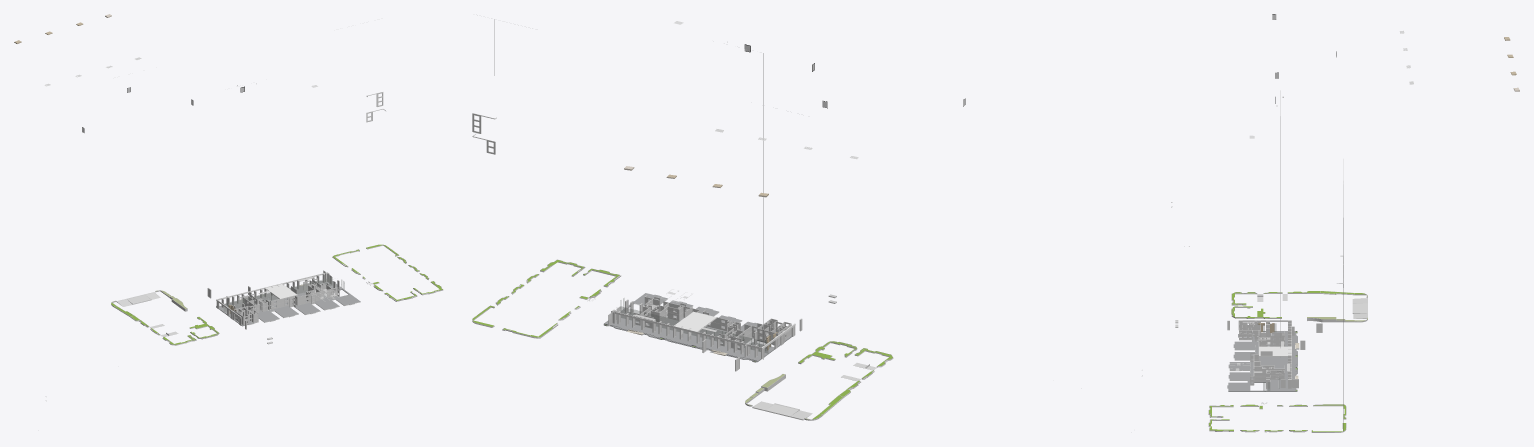
The model's file is legacy-towers.glb.
The picture shows the model from 3 angles, left to right: view 1: azimuth 30°, elevation 25°; view 2: azimuth 150°, elevation 25°; view 3: azimuth 270°, elevation 25°; orthographic projection. The views are drawn at different scales.
Visible parts, largest first — view 1: Node1, Node34; view 2: Node1, Node34; view 3: Node1, Node34.
Part boxes in pixels (x1,y1,x2,y2): Node1: (44, 57, 443, 401); Node34: (14, 14, 442, 344); Node1: (472, 14, 1142, 432); Node34: (472, 44, 965, 420); Node1: (1171, 14, 1413, 432); Node34: (1208, 14, 1519, 432).
Bounding box in the file's own units: 12291 × 7244 × 8088.
Materials: 2 (2 with a texture image).
